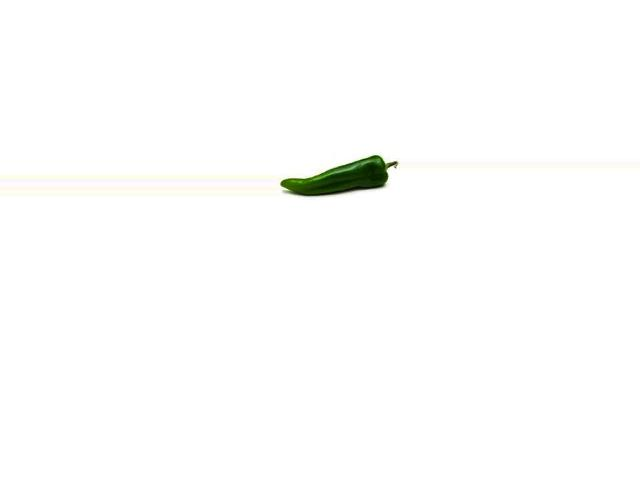bell_pepper: (280, 153, 402, 198)
